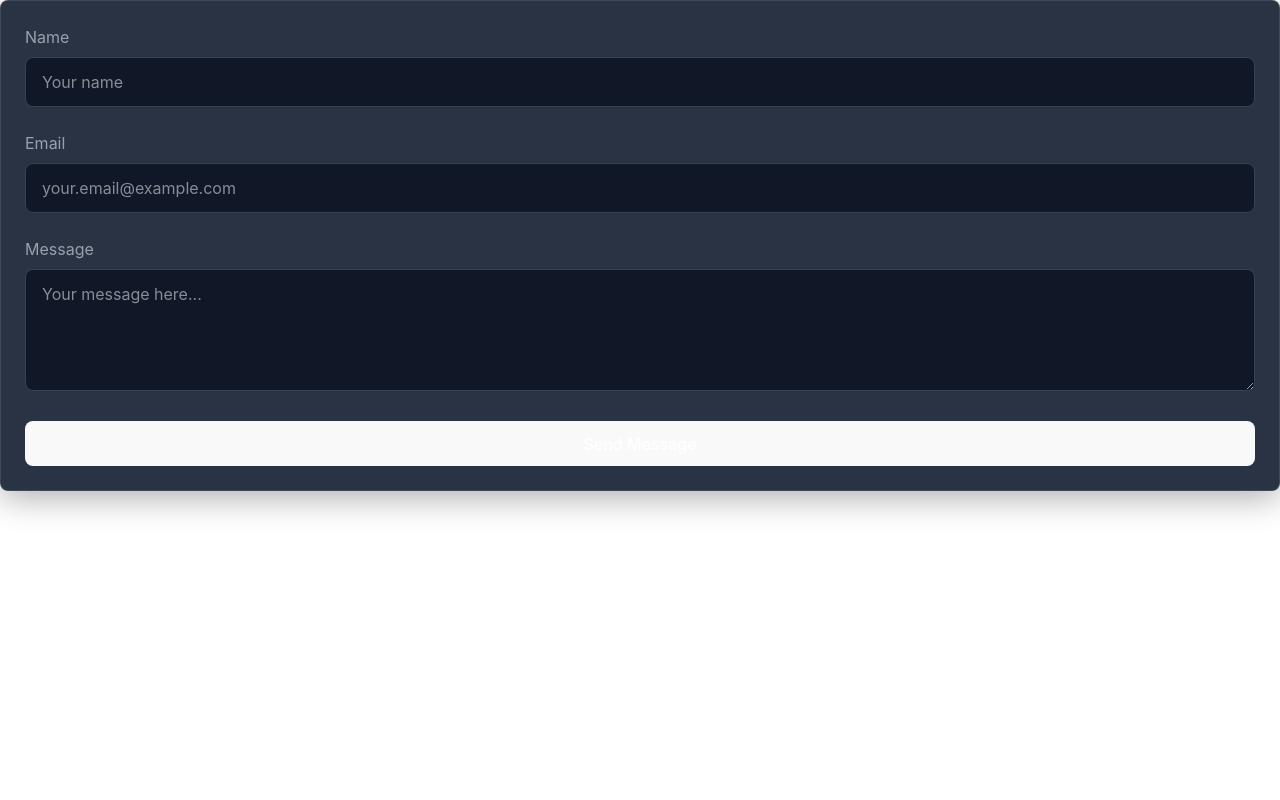
Test: ContactForm › Form Submission › should submit form successfully with valid data
The image size is (1280, 800).
In the field with placeholder "Your name": (640, 82) left=25, top=57, right=1255, bottom=107, type "John Doe"
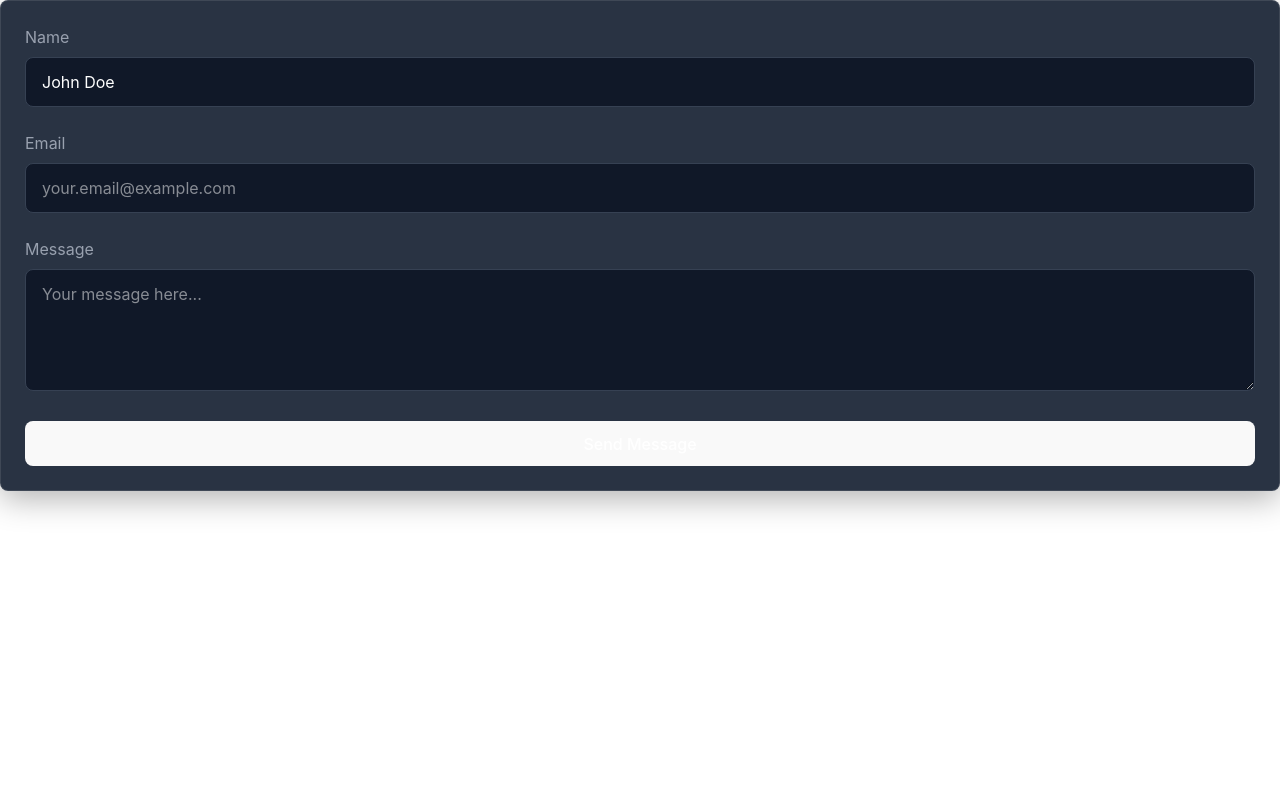
In the field with placeholder "your.email@example.com": (640, 188) left=25, top=163, right=1255, bottom=213, type "john@example.com"
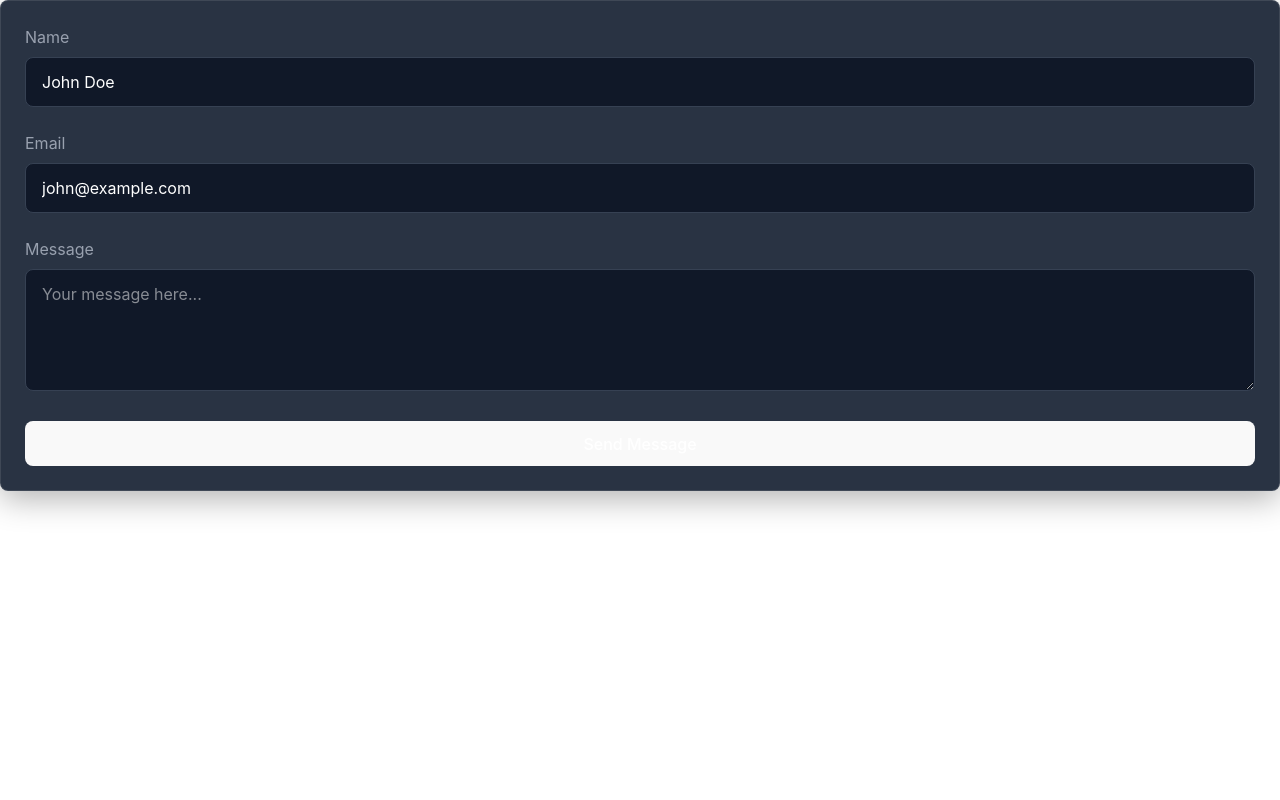
In the text box with placeholder "Your message here...": (640, 330) left=25, top=269, right=1255, bottom=391, type "This is a test message"
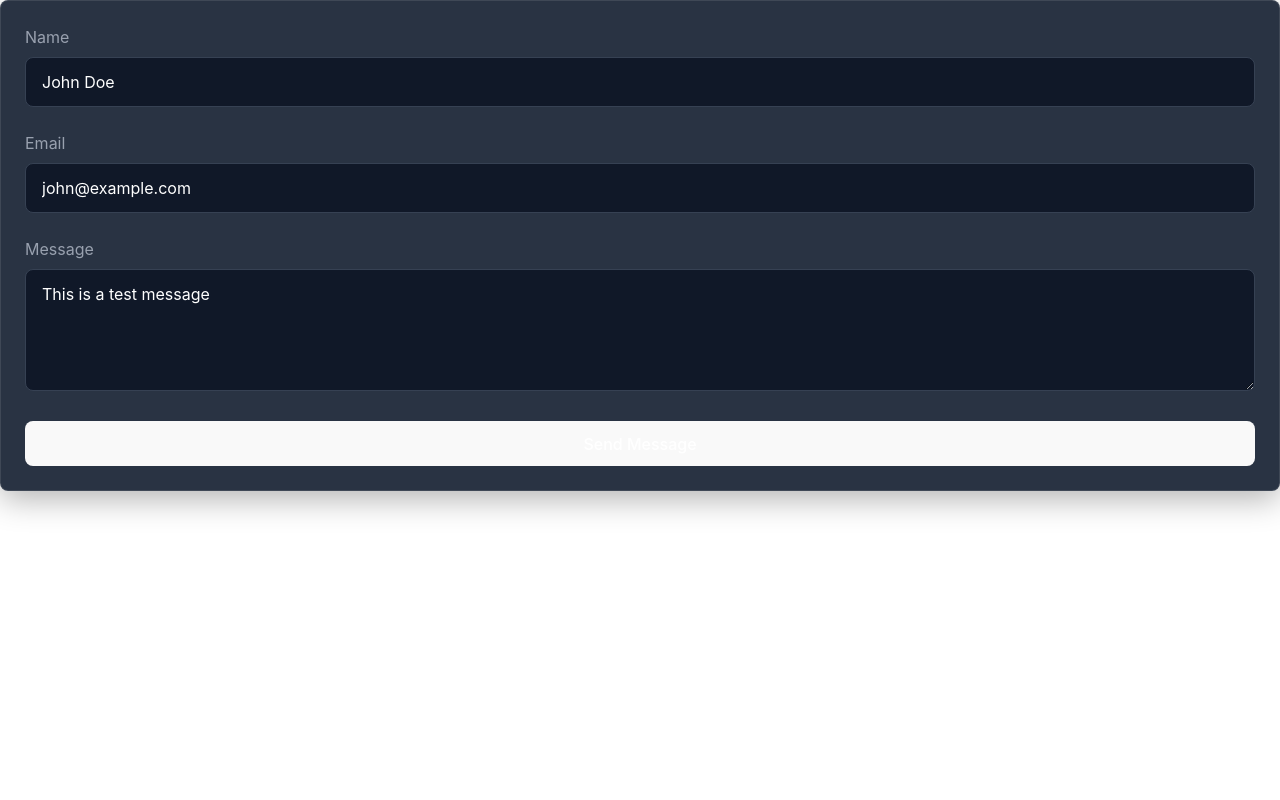
Submit the form with placeholder "your name", box left=25, top=25, right=1255, bottom=466
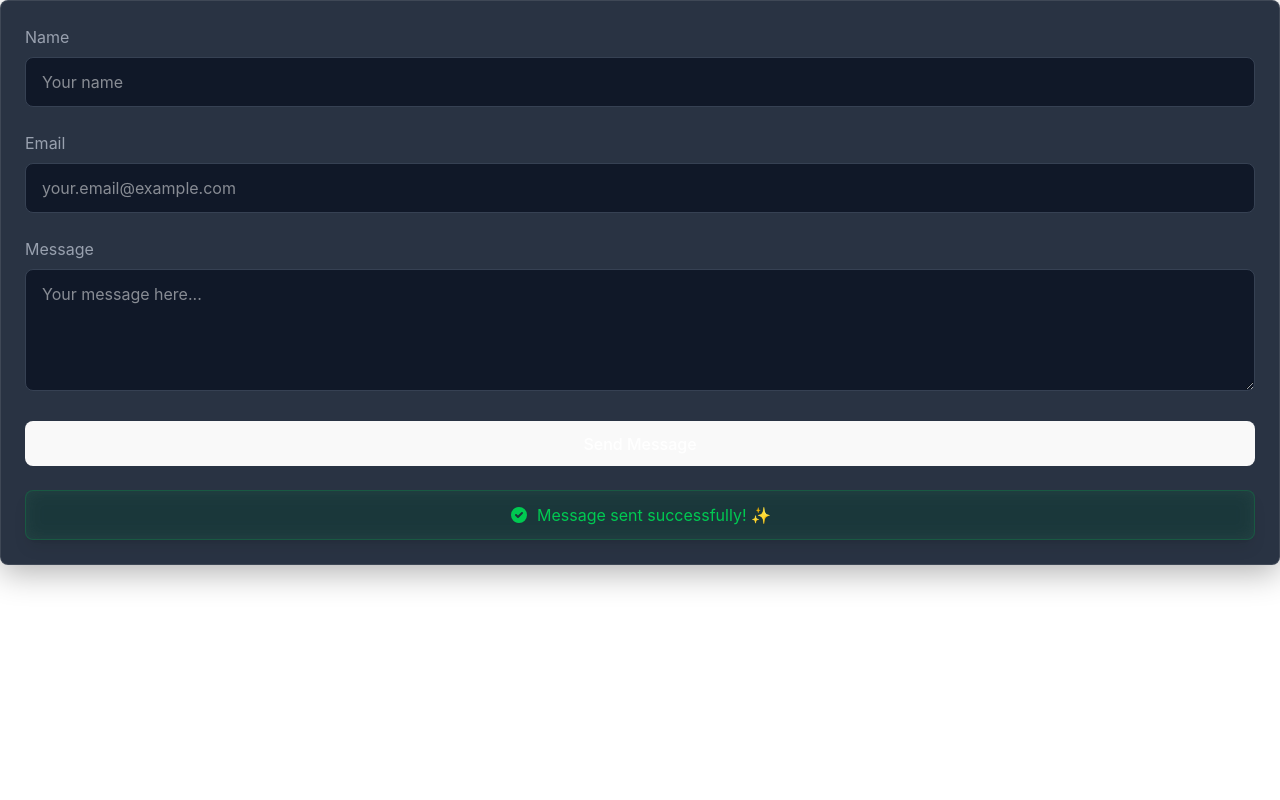
Expected: the text "Message sent successfully! ✨" is shown, left=25, top=490, right=1255, bottom=540
